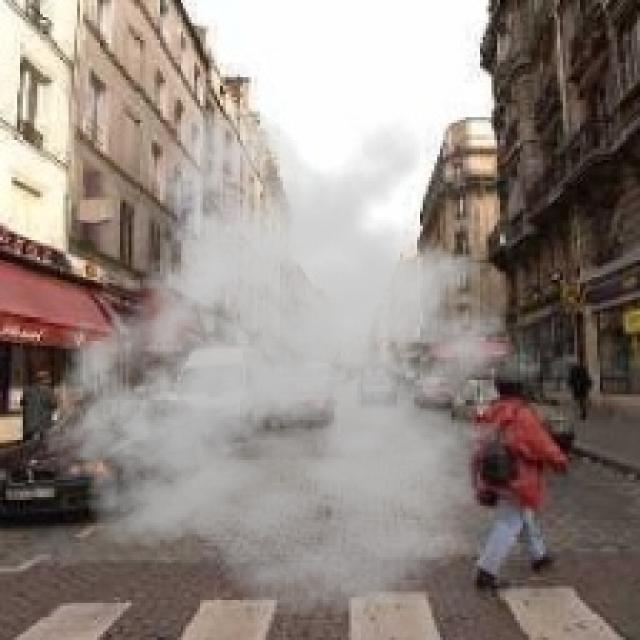Smoke: (29, 100, 568, 617)
